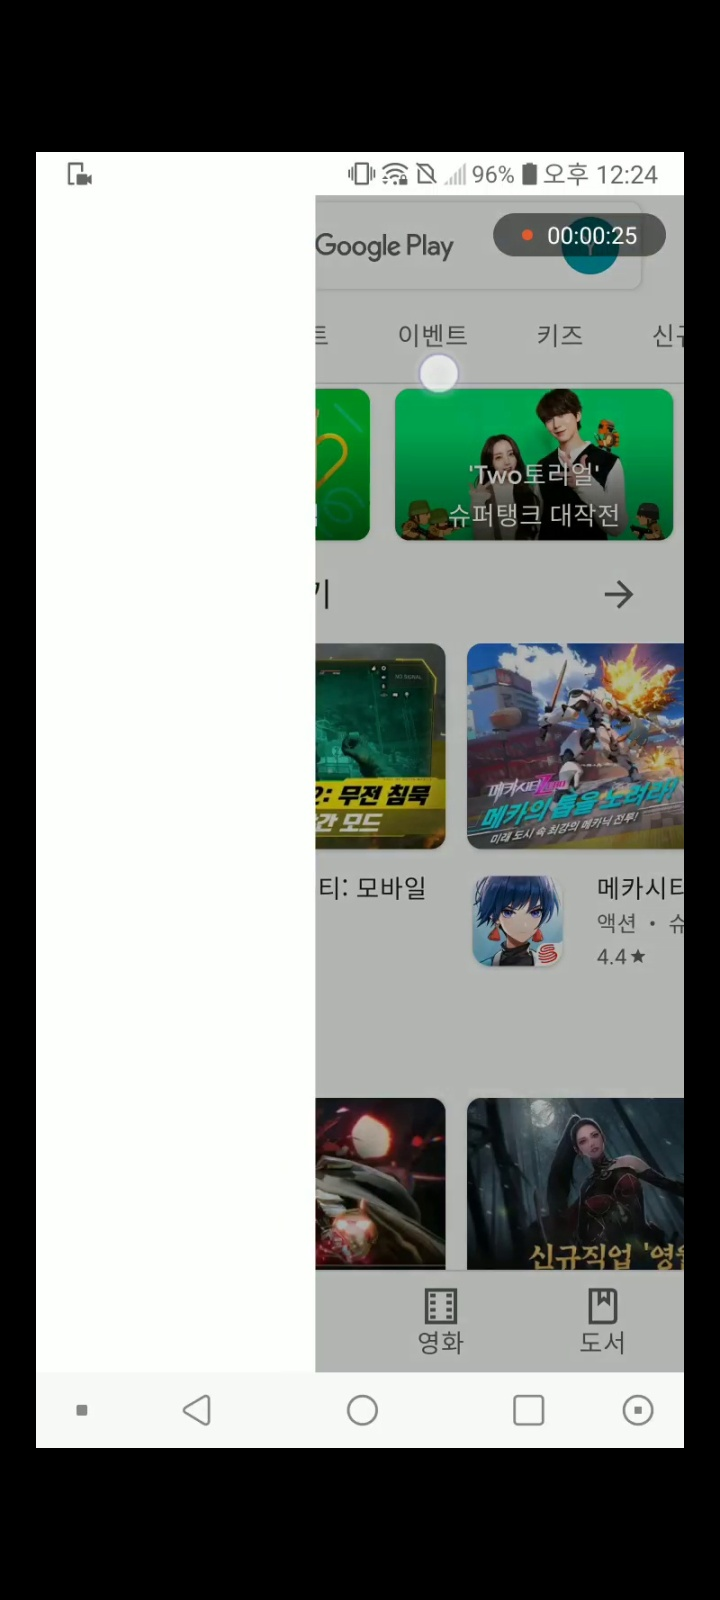Cursor: (417, 351, 462, 396)
